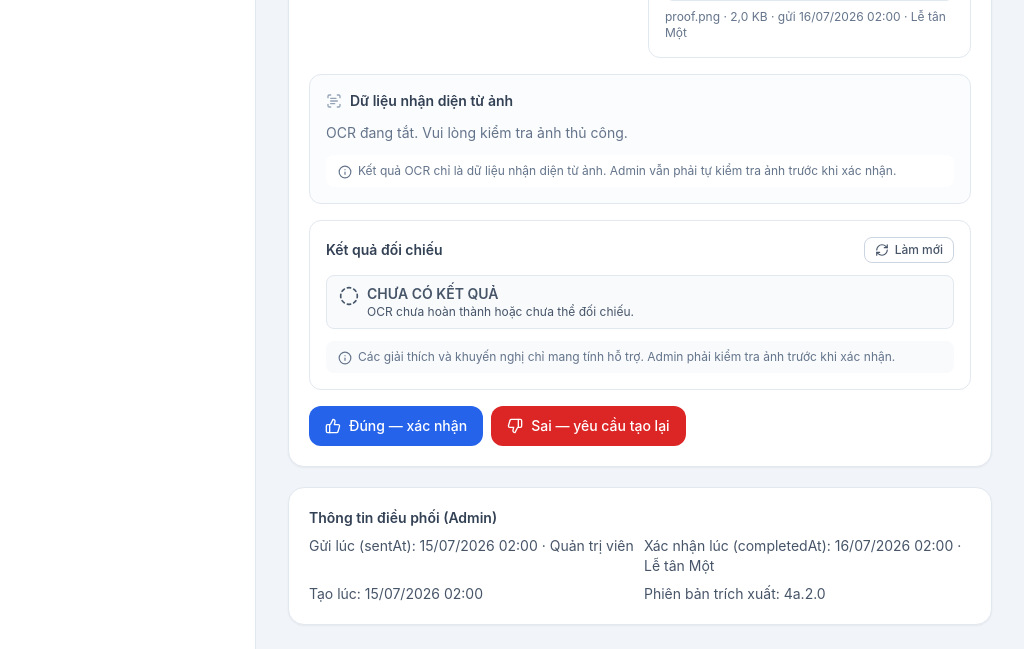
it: BookingDetailPage — admin review › shows the LEFT/RIGHT comparison and approves a pending proof
(page scrolled)
Expected: the text "Dữ liệu nhận diện từ ảnh" is shown, [326,91,513,111]
Expected: the text "Kết quả đối chiếu" is shown, [326,240,443,260]
Step 1. Click the button "Đúng — xác nhận" → click(396, 426), box [309,406,483,446]
(page scrolled)
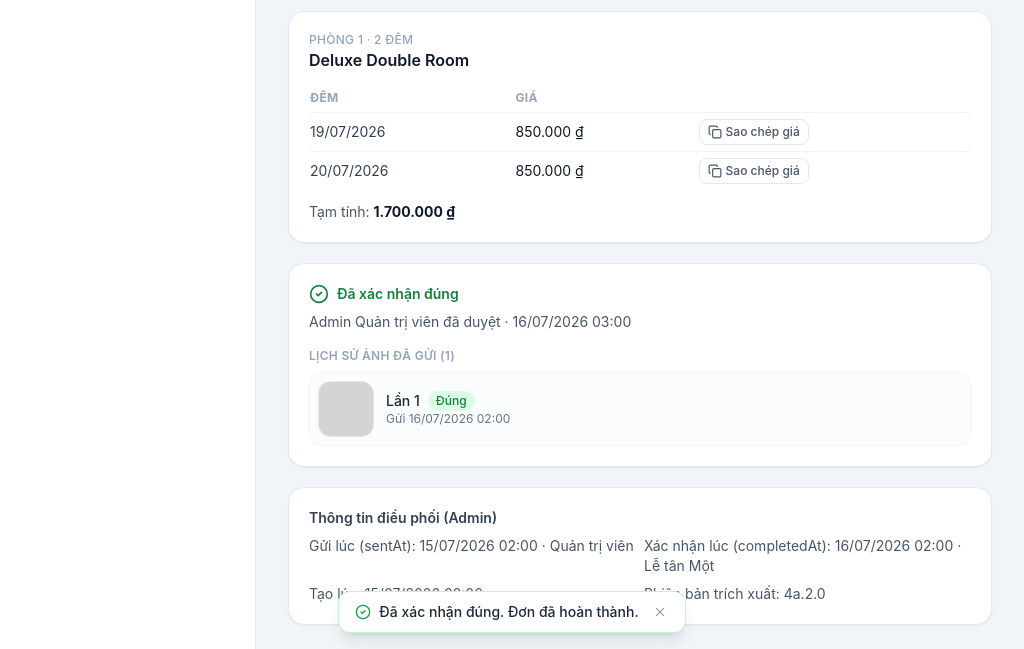
Expected: the text "Đã xác nhận đúng. Đơn đã hoàn thành." is shown, [379,602,639,622]
